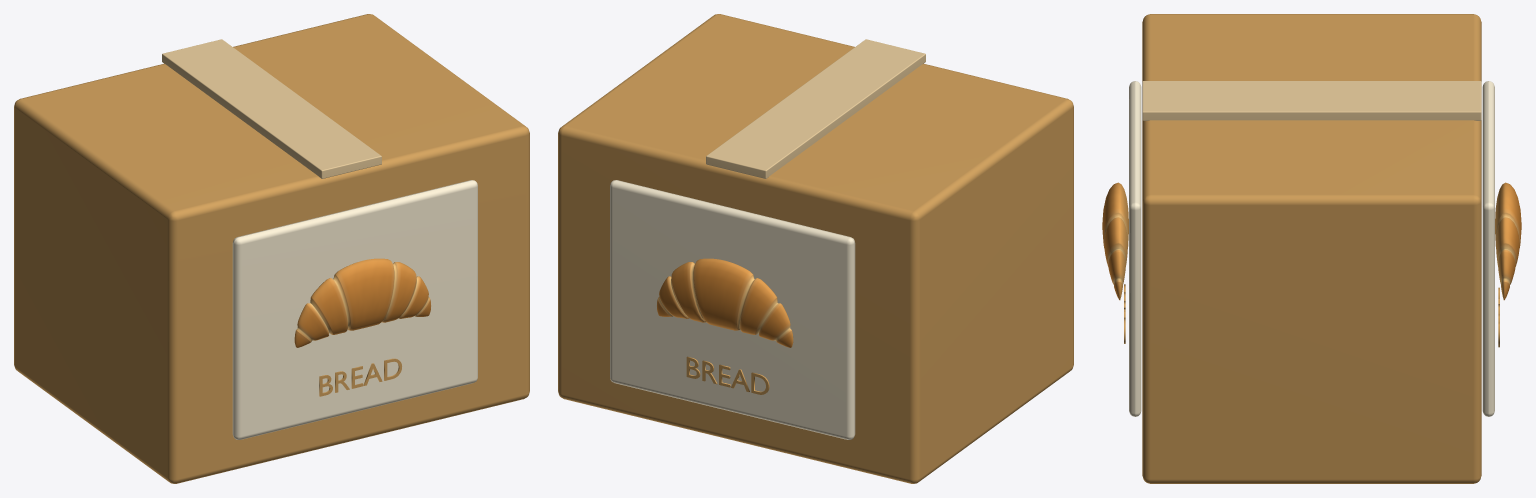
File: crate-bread.glb
3 renders of one model, left to right at view 1: azimuth 30°, elevation 25°; view 2: azimuth 150°, elevation 25°; view 3: azimuth 270°, elevation 25°, orthographic. The views are drawn at different scales.
Parts seen in each view (by area): view 1: carton.body, badge.plate.front, carton.tape, badge.loaf.front, badge.text.front_export; view 2: carton.body, badge.plate.back, carton.tape, badge.loaf.back, badge.text.back_export; view 3: carton.body, carton.tape, badge.plate.back, badge.plate.front, badge.loaf.back, badge.loaf.front.
Part boxes in pixels (x1,y1,x2,y2): carton.body: (14,14,529,483); badge.plate.front: (232,180,477,439); carton.tape: (162,39,381,178); badge.loaf.front: (294,258,430,347); badge.text.front_export: (319,358,401,396); carton.body: (558,14,1073,483); badge.plate.back: (610,180,855,439); carton.tape: (706,39,925,178); badge.loaf.back: (657,258,793,347); badge.text.back_export: (686,356,769,394); carton.body: (1142,14,1481,483); carton.tape: (1142,81,1481,120); badge.plate.back: (1482,81,1494,416); badge.plate.front: (1129,81,1141,416); badge.loaf.back: (1495,182,1521,300); badge.loaf.front: (1102,182,1128,300).
Size of the model in its own units: 0.43 by 0.319 by 0.408.
